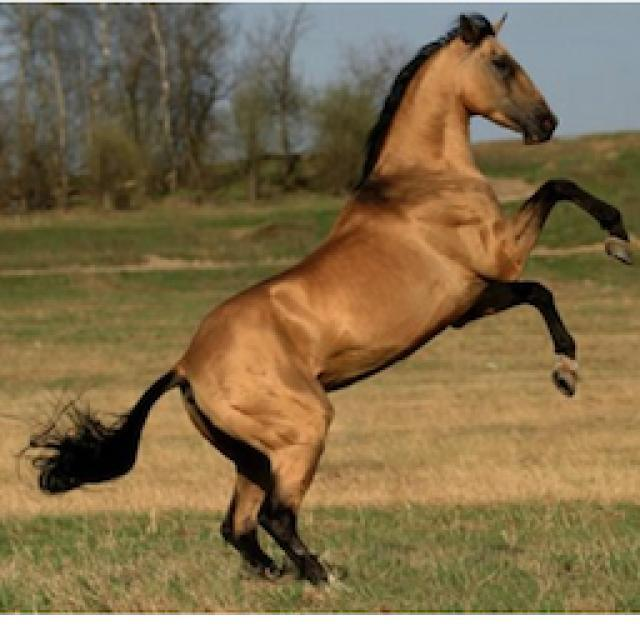Horse: (12, 10, 638, 592)
